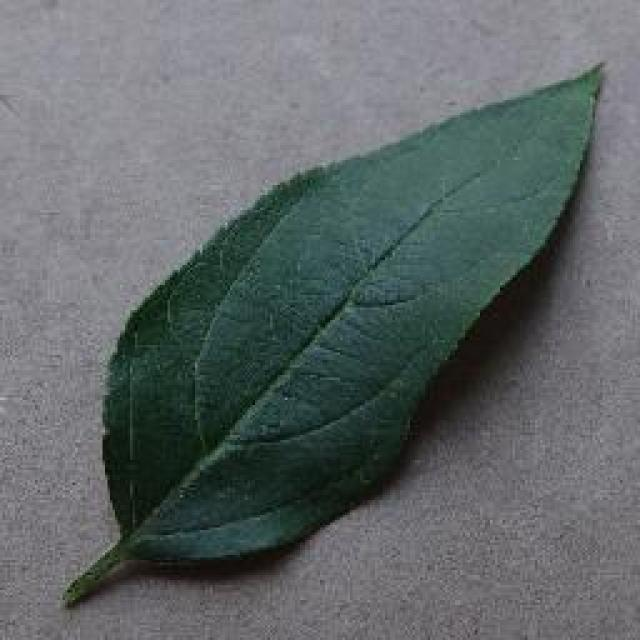apple healthy: (60, 58, 608, 608)
